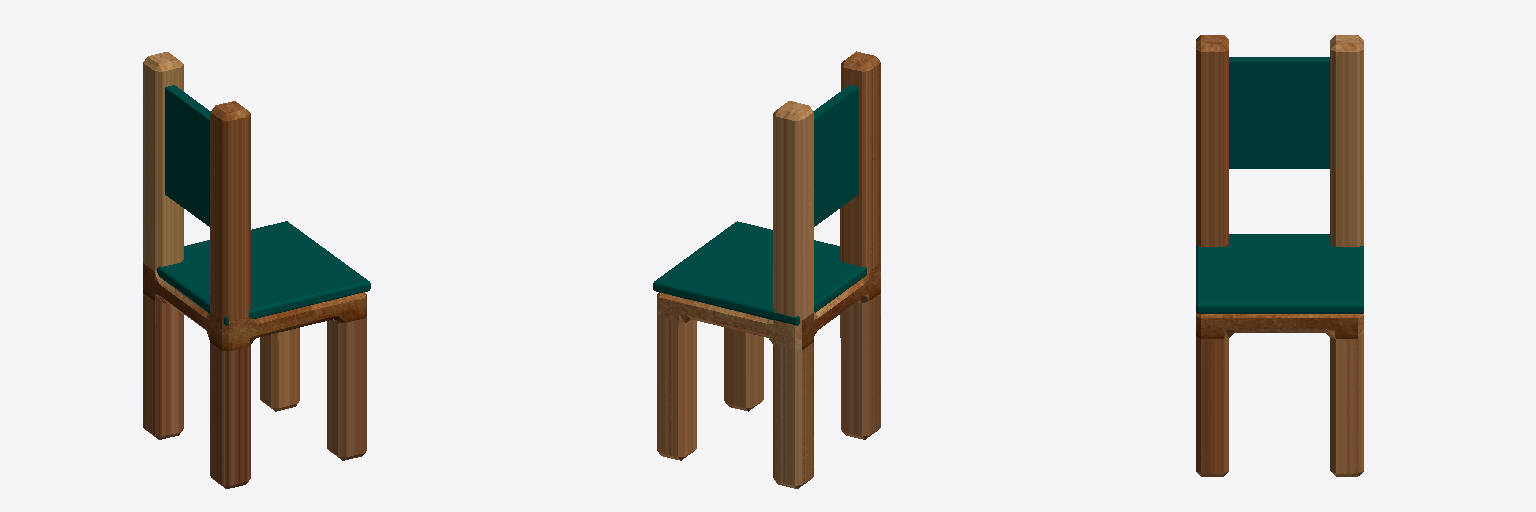
3 views of the same model, side by side, from view 1: azimuth 30°, elevation 25°; view 2: azimuth 150°, elevation 25°; view 3: azimuth 270°, elevation 25° (orthographic).
Visible parts, largest first — view 1: pCube3, pCube4, pCube5; view 2: pCube3, pCube4, pCube5; view 3: pCube3, pCube4, pCube5.
Boxes of the visible parts, x1=… form: pCube3: x1=143, y1=52, x2=366, y2=488; pCube4: x1=157, y1=221, x2=370, y2=325; pCube5: x1=165, y1=85, x2=210, y2=226; pCube3: x1=657, y1=51, x2=880, y2=488; pCube4: x1=653, y1=221, x2=866, y2=325; pCube5: x1=813, y1=85, x2=858, y2=226; pCube3: x1=1196, y1=35, x2=1363, y2=476; pCube4: x1=1196, y1=234, x2=1363, y2=313; pCube5: x1=1229, y1=57, x2=1329, y2=168.
Size of the model in its own units: 1.52 by 3.7 by 1.5.
Materials: 2 (2 with a texture image).